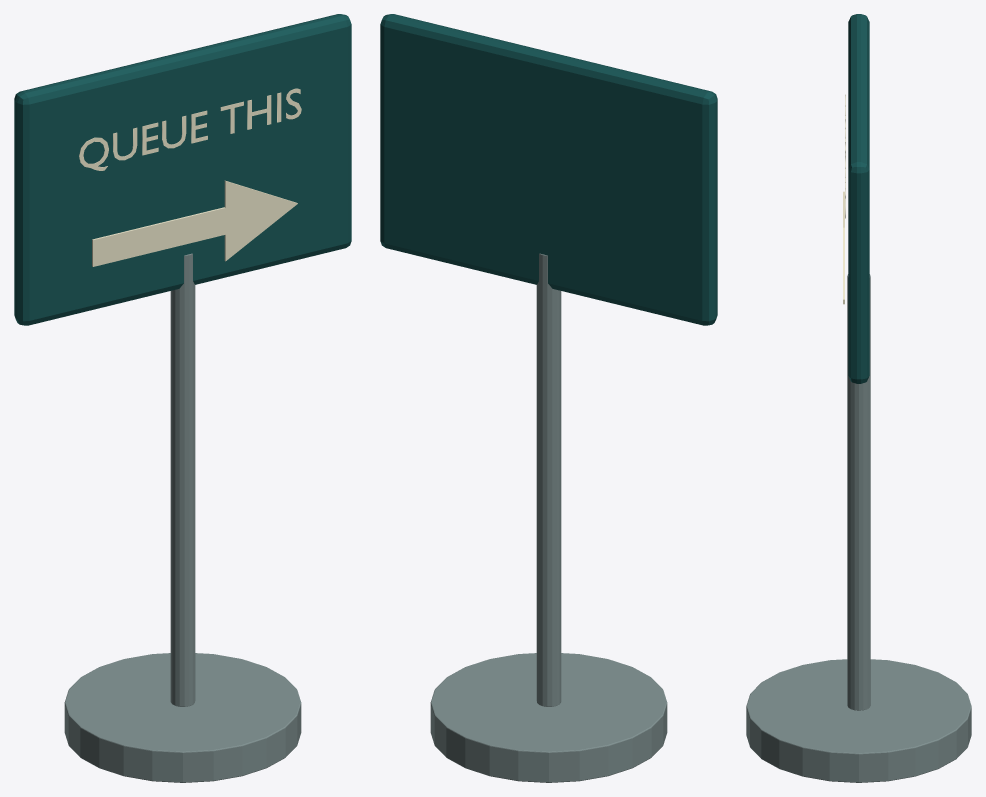
File: edited.glb
The picture shows the model from 3 angles, left to right: view 1: azimuth 30°, elevation 25°; view 2: azimuth 150°, elevation 25°; view 3: azimuth 270°, elevation 25°; orthographic projection. The views are drawn at different scales.
Parts seen in each view (by area): view 1: SIGN_Panel, BASE_Weighted, STAND_Post, ICON_QueueArrow, EDITABLE_QueueText_Export; view 2: SIGN_Panel, BASE_Weighted, STAND_Post; view 3: BASE_Weighted, STAND_Post, SIGN_Panel.
Boxes of the visible parts, x1,y1,x2,y2 form: SIGN_Panel: [14, 14, 351, 325]; BASE_Weighted: [64, 653, 301, 782]; STAND_Post: [170, 253, 195, 706]; ICON_QueueArrow: [92, 180, 297, 266]; EDITABLE_QueueText_Export: [79, 88, 301, 170]; SIGN_Panel: [380, 14, 717, 325]; BASE_Weighted: [430, 653, 667, 782]; STAND_Post: [536, 253, 561, 706]; BASE_Weighted: [746, 659, 971, 782]; STAND_Post: [847, 274, 870, 710]; SIGN_Panel: [848, 14, 869, 383].
Bounding box in the file's own units: 0.78 × 1.52 × 0.48.
